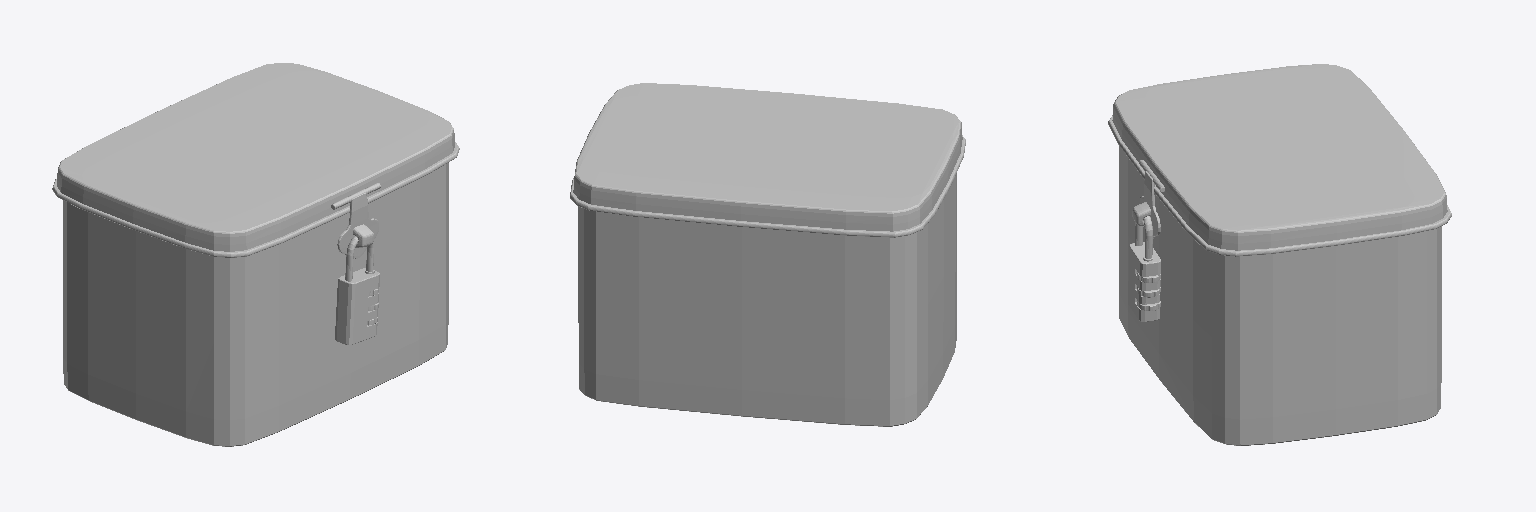
The model's file is Boite.obj.
The picture shows the model from 3 angles: view 1: azimuth 30°, elevation 25°; view 2: azimuth 150°, elevation 25°; view 3: azimuth 270°, elevation 25°; orthographic projection.
Parts seen in each view (by area): view 1: pCube10_Mesh.009, pCube11_Mesh.008, pCube13_Mesh.001, pCube12_Mesh.010, pCube14_Mesh.012; view 2: pCube10_Mesh.009, pCube11_Mesh.008, pCube12_Mesh.010; view 3: pCube10_Mesh.009, pCube11_Mesh.008, pCube12_Mesh.010, pCube13_Mesh.001, pCube14_Mesh.012.
Boxes of the visible parts, x1=… form: pCube10_Mesh.009: x1=63, y1=163, x2=448, y2=446; pCube11_Mesh.008: x1=57, y1=63, x2=454, y2=251; pCube13_Mesh.001: x1=335, y1=268, x2=379, y2=344; pCube12_Mesh.010: x1=52, y1=142, x2=459, y2=257; pCube14_Mesh.012: x1=337, y1=192, x2=378, y2=258; pCube10_Mesh.009: x1=578, y1=174, x2=956, y2=426; pCube11_Mesh.008: x1=573, y1=83, x2=962, y2=231; pCube12_Mesh.010: x1=570, y1=135, x2=965, y2=237; pCube10_Mesh.009: x1=1119, y1=146, x2=1441, y2=445; pCube11_Mesh.008: x1=1112, y1=64, x2=1447, y2=250; pCube12_Mesh.010: x1=1108, y1=115, x2=1451, y2=256; pCube13_Mesh.001: x1=1128, y1=242, x2=1160, y2=321; pCube14_Mesh.012: x1=1140, y1=171, x2=1160, y2=238.
Size of the model in its own units: 0.7474 by 0.4411 by 0.6296.